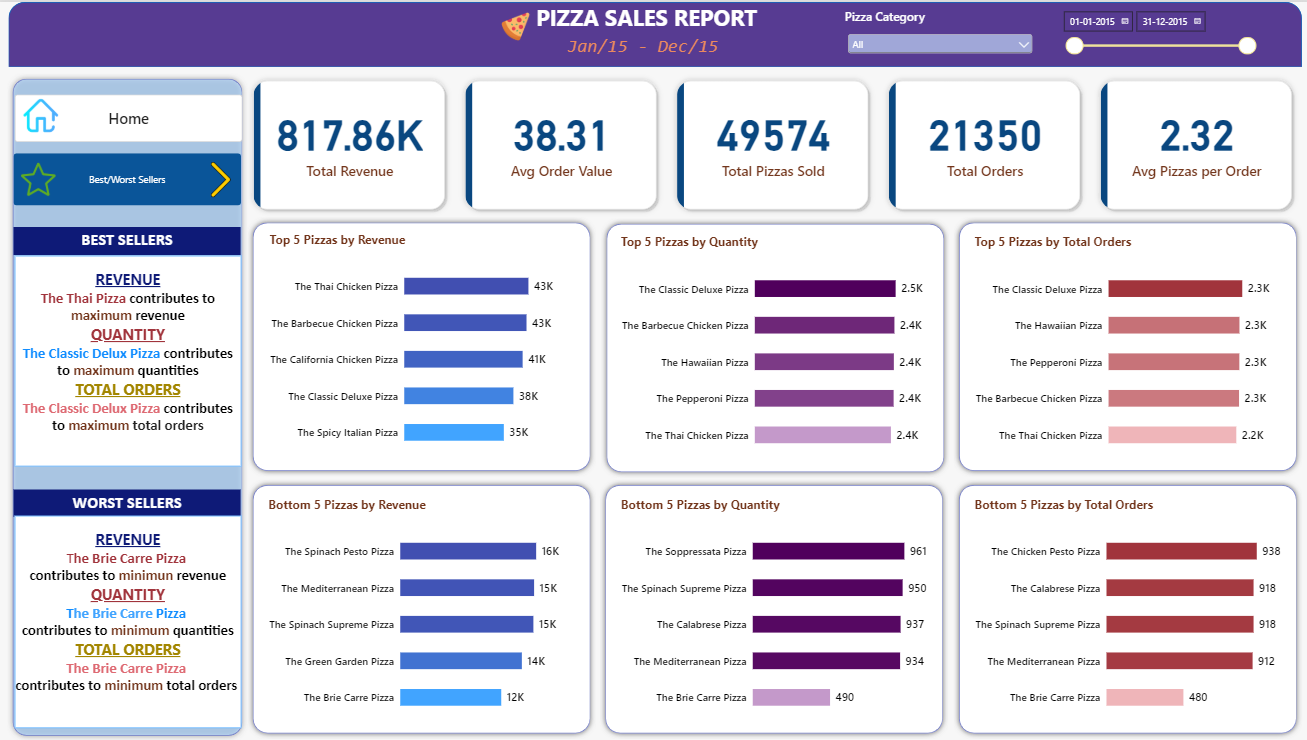

What the dashboard file says about the page in this screenshot:
{"tool":"powerbi","page":{"name":"Best/Worst Sellers","canvas":[1920,1080],"ordinal":1},"visuals":[{"type":"cardVisual","fields":{"Data":["Measures Table.Total Revenue","Measures Table.Avg Order Value","Measures Table.Total Pizzas Sold","Measures Table.Total Orders","Measures Table.Avg Pizzas per Order"]},"box":[364.3,102.9,1535.5,209.9],"z":0},{"type":"shape","box":[18.5,0,1881.3,94.7],"z":1000},{"type":"textbox","box":[750,0,390.9,48.2],"z":2000},{"type":"textbox","box":[830,47.3,230.5,47.3],"z":3000},{"type":"image","box":[734.4,7.4,42.3,57.1],"z":4000},{"type":"shape","box":[366.3,312.9,507,377.3],"z":5000},{"type":"shape","box":[16.5,102.9,349.9,971.5],"z":6000},{"type":"textbox","box":[26,326.6,330.3,41],"z":7000},{"type":"textbox","box":[26.8,368.4,329.3,306.7],"z":8000},{"type":"textbox","box":[26.1,708.3,330.4,39.1],"z":9000},{"type":"textbox","box":[26.8,747.2,329.3,308.7],"z":10000},{"type":"slicer","title":"Pizza Category","fields":{"Values":["pizza_sales.pizza_category"]},"box":[1234.5,8.2,278.2,79.1],"z":11000},{"type":"slicer","title":"Pizza Category","fields":{"Values":["pizza_sales.order_date"]},"box":[1545.5,8.2,290.9,79.1],"z":12000},{"type":"shape","box":[879.8,314.7,507,377.3],"z":13000},{"type":"shape","box":[1393.3,312.9,507,377.3],"z":14000},{"type":"shape","box":[366.3,695,507,377.3],"z":15000},{"type":"shape","box":[877.9,695,507,377.3],"z":16000},{"type":"shape","box":[1393.3,695,507,377.3],"z":17000},{"type":"barChart","title":"Top 5 Pizzas by Revenue","fields":{"Category":["pizza_sales.pizza_name"],"Y":["Measures Table.Total Revenue"]},"box":[382.5,326.2,477.5,346.2],"z":18000},{"type":"barChart","title":"Bottom 5 Pizzas by Revenue","fields":{"Category":["pizza_sales.pizza_name"],"Y":["Measures Table.Total Revenue"]},"box":[380.8,710.1,477.5,346.2],"z":19000},{"type":"barChart","title":"Top 5 Pizzas by Quantity","fields":{"Category":["pizza_sales.pizza_name"],"Y":["Measures Table.Total Pizzas Sold"]},"box":[893.3,329.3,477.5,346.2],"z":20000},{"type":"barChart","title":"Bottom 5 Pizzas by Quantity","fields":{"Category":["pizza_sales.pizza_name"],"Y":["Measures Table.Total Pizzas Sold"]},"box":[893.3,710.1,477.5,346.2],"z":21000},{"type":"barChart","title":"Top 5 Pizzas by Total Orders","fields":{"Category":["pizza_sales.pizza_name"],"Y":["Measures Table.Total Orders"]},"box":[1407.9,329.3,477.5,346.2],"z":22000},{"type":"barChart","title":"Bottom 5 Pizzas by Total Orders","fields":{"Category":["pizza_sales.pizza_name"],"Y":["Measures Table.Total Orders"]},"box":[1407.9,710.1,477.5,346.2],"z":23000},{"type":"pageNavigator","box":[26.8,133.8,331.4,70],"z":24000},{"type":"pageNavigator","box":[24.7,220.2,331.4,76.2],"z":25000},{"type":"image","box":[298.5,232.6,57.6,51.5],"z":26000},{"type":"image","box":[37,232.6,50,50],"z":26001},{"type":"image","box":[39.1,140,50,50],"z":26002}]}

Visuals, with their boxes in screenshot pixels (x1, y1, x2, y2), scaled from the page's 1920x1080 canvas onto the 1307x740 screenshot:
cardVisual - Measures Table.Total Revenue x Measures Table.Avg Order Value: <bbox>248, 71, 1293, 214</bbox>
shape: <bbox>13, 0, 1293, 65</bbox>
textbox: <bbox>511, 0, 777, 33</bbox>
textbox: <bbox>565, 32, 722, 65</bbox>
image: <bbox>500, 5, 529, 44</bbox>
shape: <bbox>249, 214, 594, 473</bbox>
shape: <bbox>11, 71, 249, 736</bbox>
textbox: <bbox>18, 224, 243, 252</bbox>
textbox: <bbox>18, 252, 242, 463</bbox>
textbox: <bbox>18, 485, 243, 512</bbox>
textbox: <bbox>18, 512, 242, 723</bbox>
"Pizza Category" slicer: <bbox>840, 6, 1030, 60</bbox>
"Pizza Category" slicer: <bbox>1052, 6, 1250, 60</bbox>
shape: <bbox>599, 216, 944, 474</bbox>
shape: <bbox>948, 214, 1294, 473</bbox>
shape: <bbox>249, 476, 594, 735</bbox>
shape: <bbox>598, 476, 943, 735</bbox>
shape: <bbox>948, 476, 1294, 735</bbox>
"Top 5 Pizzas by Revenue" barChart: <bbox>260, 224, 585, 461</bbox>
"Bottom 5 Pizzas by Revenue" barChart: <bbox>259, 487, 584, 724</bbox>
"Top 5 Pizzas by Quantity" barChart: <bbox>608, 226, 933, 463</bbox>
"Bottom 5 Pizzas by Quantity" barChart: <bbox>608, 487, 933, 724</bbox>
"Top 5 Pizzas by Total Orders" barChart: <bbox>958, 226, 1283, 463</bbox>
"Bottom 5 Pizzas by Total Orders" barChart: <bbox>958, 487, 1283, 724</bbox>
pageNavigator: <bbox>18, 92, 244, 140</bbox>
pageNavigator: <bbox>17, 151, 242, 203</bbox>
image: <bbox>203, 159, 242, 195</bbox>
image: <bbox>25, 159, 59, 194</bbox>
image: <bbox>27, 96, 61, 130</bbox>
